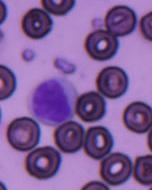L: (27, 76, 78, 126)
